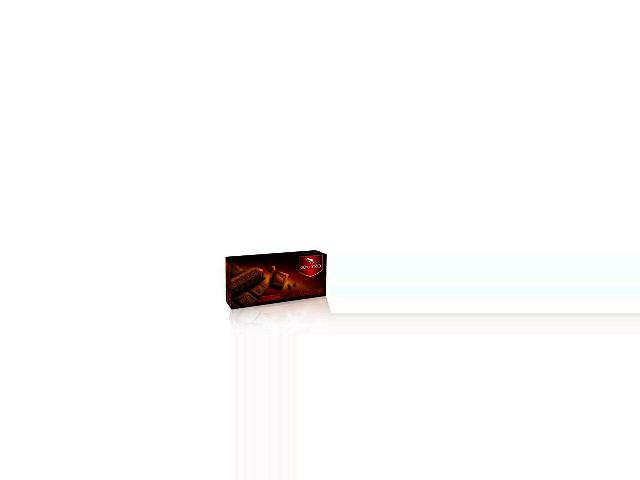chocolate: (227, 249, 326, 310)
